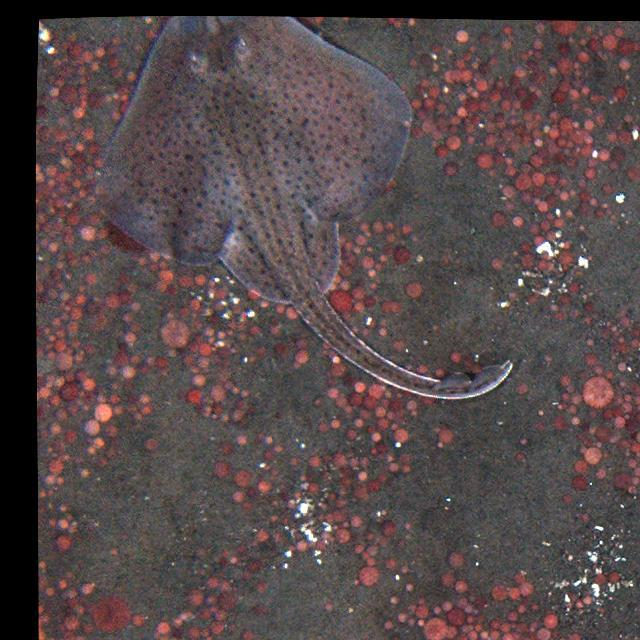skate: (102, 16, 516, 406)
